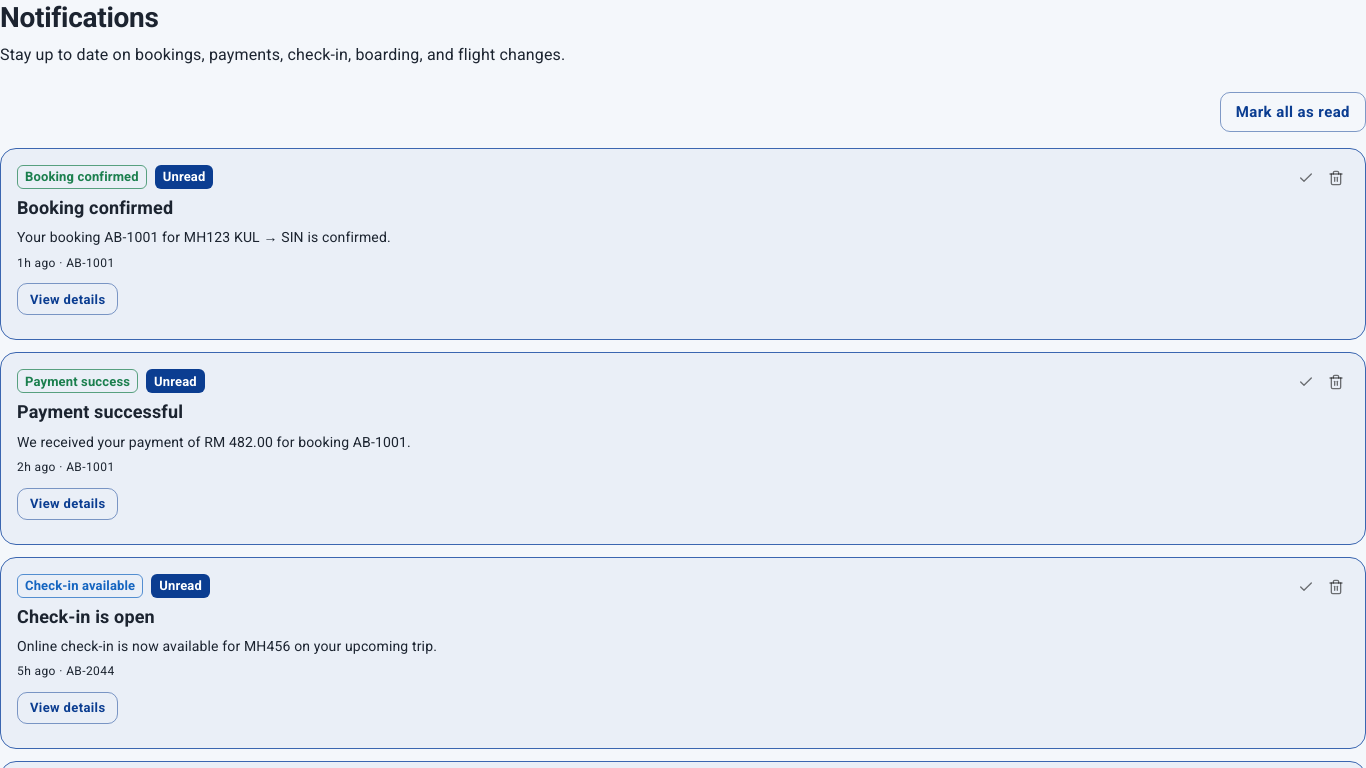
Test: NotificationPage › marks all notifications as read
Expected: the heading "Booking confirmed" is shown, [17, 197, 173, 218]
What coordinates should you click on to do the following:
click the button "Mark all as read"
I would click on:
 (1293, 112)
Its box is [1220, 92, 1365, 132].
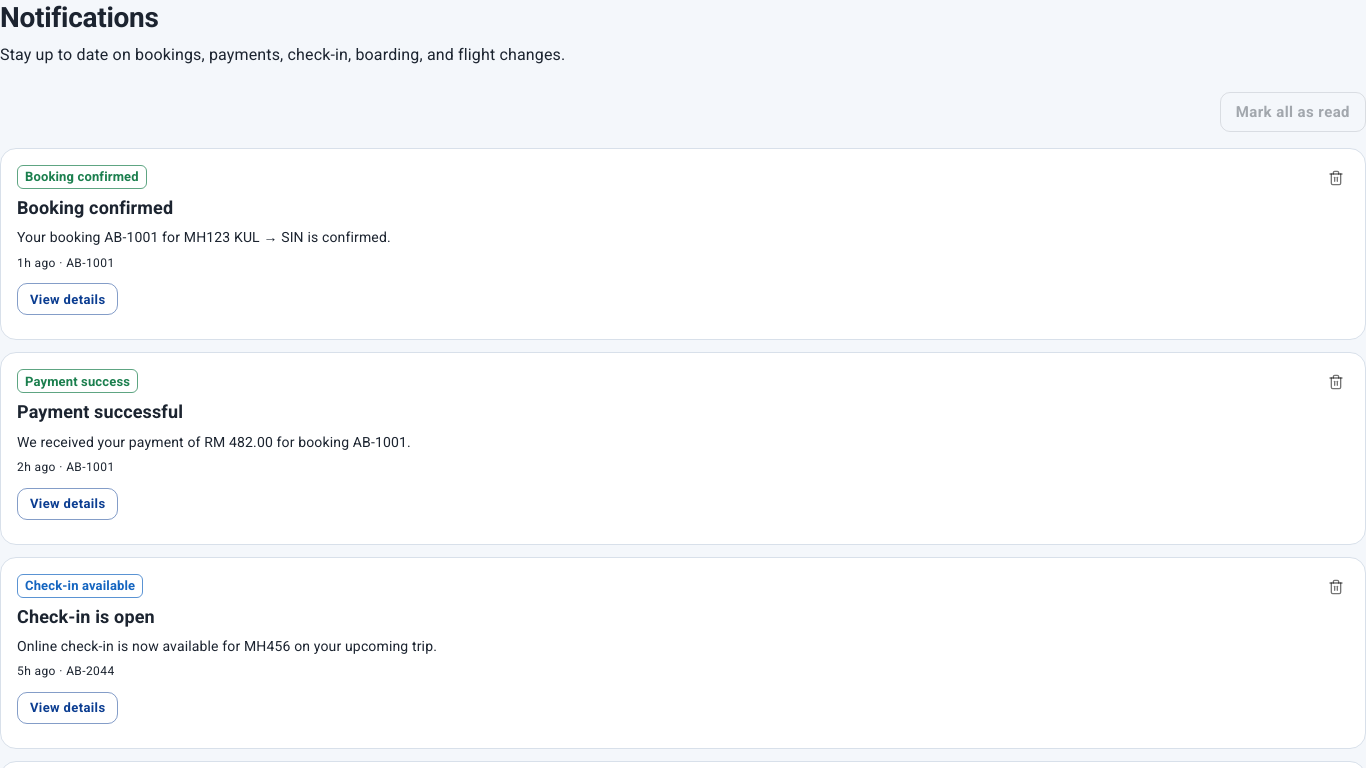
Now the text "Unread" is gone
